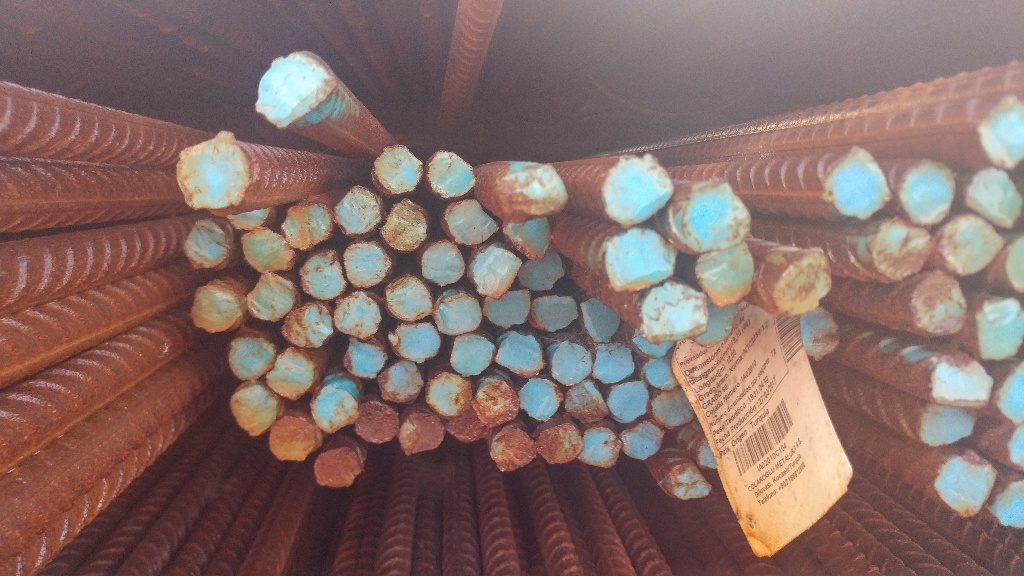dipstick: (253, 60, 333, 130), (177, 140, 251, 211), (602, 156, 673, 224), (681, 183, 752, 247), (932, 453, 994, 521), (829, 154, 892, 219), (605, 231, 673, 288), (499, 165, 567, 222), (638, 286, 708, 341), (938, 216, 1005, 273), (692, 247, 754, 308), (773, 248, 832, 311), (963, 167, 1021, 231), (925, 358, 993, 412), (873, 223, 935, 280), (901, 161, 956, 224), (914, 274, 968, 334), (980, 96, 1024, 168), (976, 298, 1023, 363), (917, 402, 976, 447), (443, 198, 500, 244), (231, 385, 278, 440), (473, 247, 523, 298), (266, 348, 313, 402), (190, 284, 242, 332), (246, 273, 297, 321), (283, 205, 335, 251), (335, 186, 381, 237), (383, 201, 429, 252), (426, 150, 472, 200), (495, 333, 545, 379), (799, 304, 840, 360), (184, 221, 229, 272), (281, 304, 334, 347), (472, 379, 519, 426), (333, 290, 380, 337), (386, 273, 432, 321), (228, 334, 276, 380), (503, 215, 553, 259), (269, 416, 319, 460), (375, 147, 421, 194), (299, 252, 347, 297), (423, 240, 466, 289), (491, 428, 536, 474), (310, 390, 357, 434), (530, 292, 579, 334), (238, 231, 289, 271), (389, 323, 440, 363), (435, 293, 484, 334), (551, 340, 595, 385), (378, 360, 422, 405), (427, 374, 472, 418), (576, 426, 621, 469), (399, 412, 444, 455), (694, 294, 731, 346), (483, 291, 531, 331), (591, 341, 636, 383), (344, 245, 390, 286), (581, 296, 621, 343), (536, 427, 584, 466), (355, 400, 398, 443), (519, 379, 563, 421), (519, 250, 564, 291), (621, 421, 666, 462), (605, 382, 651, 422), (315, 448, 358, 490), (342, 339, 385, 381), (565, 382, 608, 423), (451, 334, 494, 375), (992, 474, 1024, 529), (650, 389, 696, 427), (670, 466, 713, 501), (644, 355, 681, 392), (448, 407, 484, 444), (997, 368, 1024, 417), (1004, 233, 1024, 294), (633, 328, 675, 357), (228, 208, 270, 229), (700, 438, 719, 471), (1010, 429, 1024, 470)
